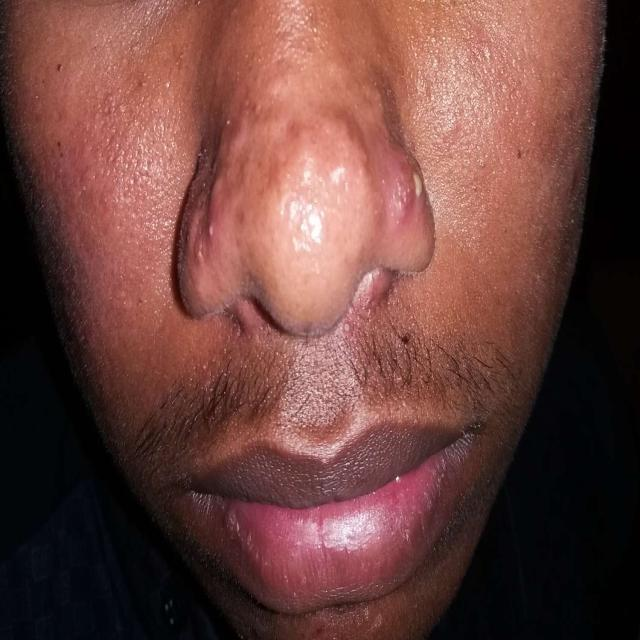Rosacea: (191, 62, 411, 251), (47, 110, 141, 336)
